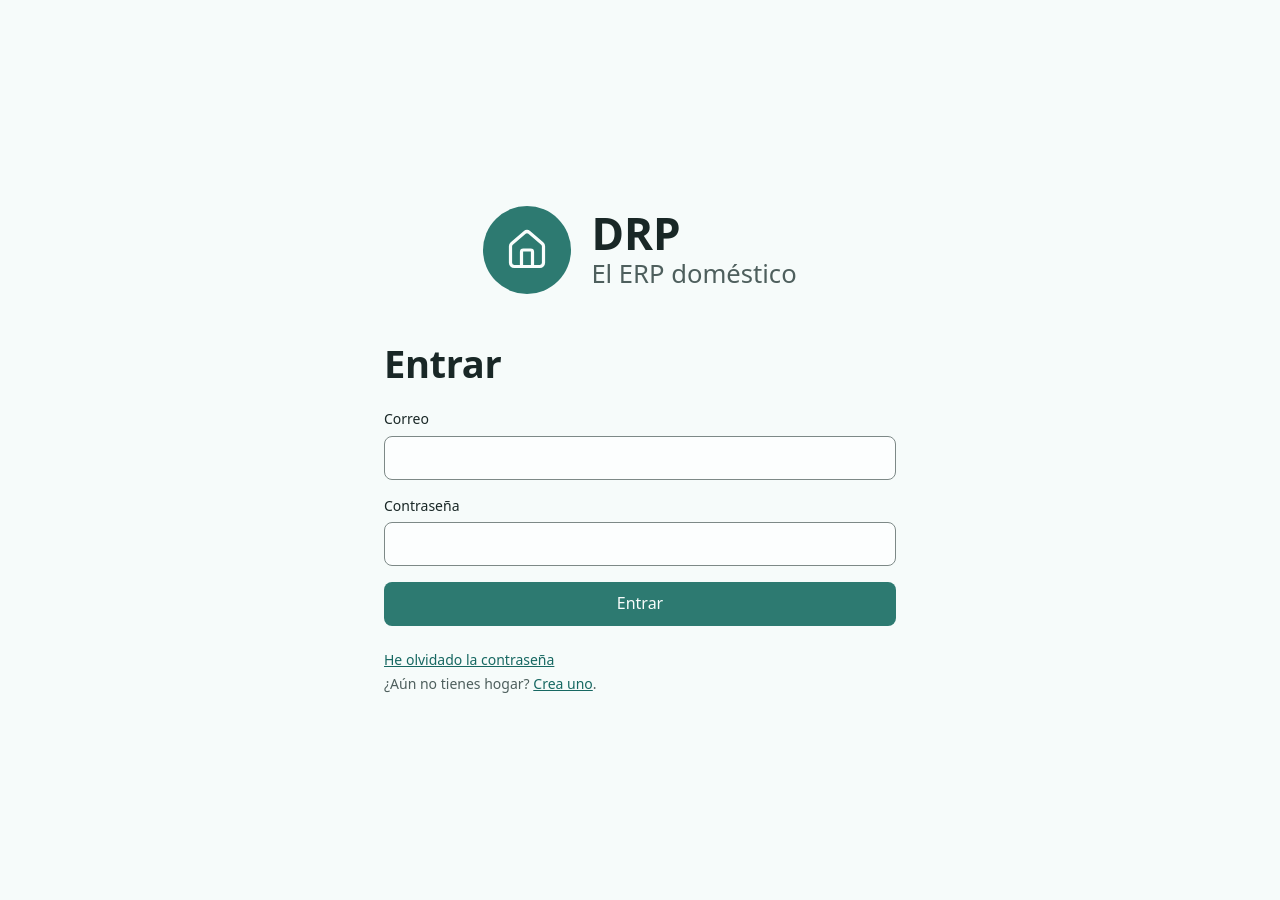
Test: renovación ante un 401 › si la renovación tampoco vale, acaba en la pantalla de entrar y dice por qué
The width and height of the screenshot is (1280, 900).
Type "kike@example.test" into the field labelled "Correo" at (640, 458), box [384,436,896,480]
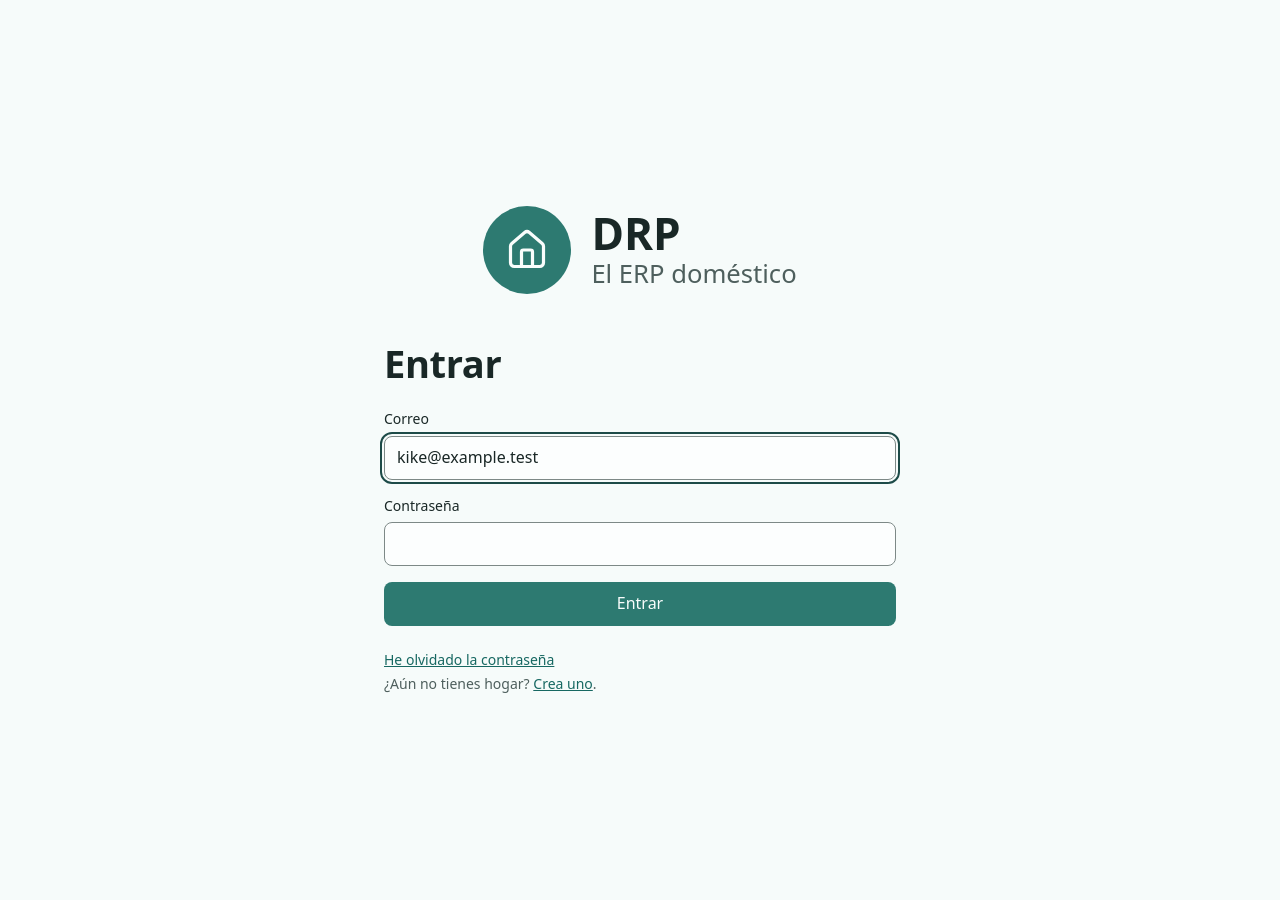
Type "el gato duerme en el sofa" into the password field labelled "Contraseña" at (640, 544), box [384,522,896,566]
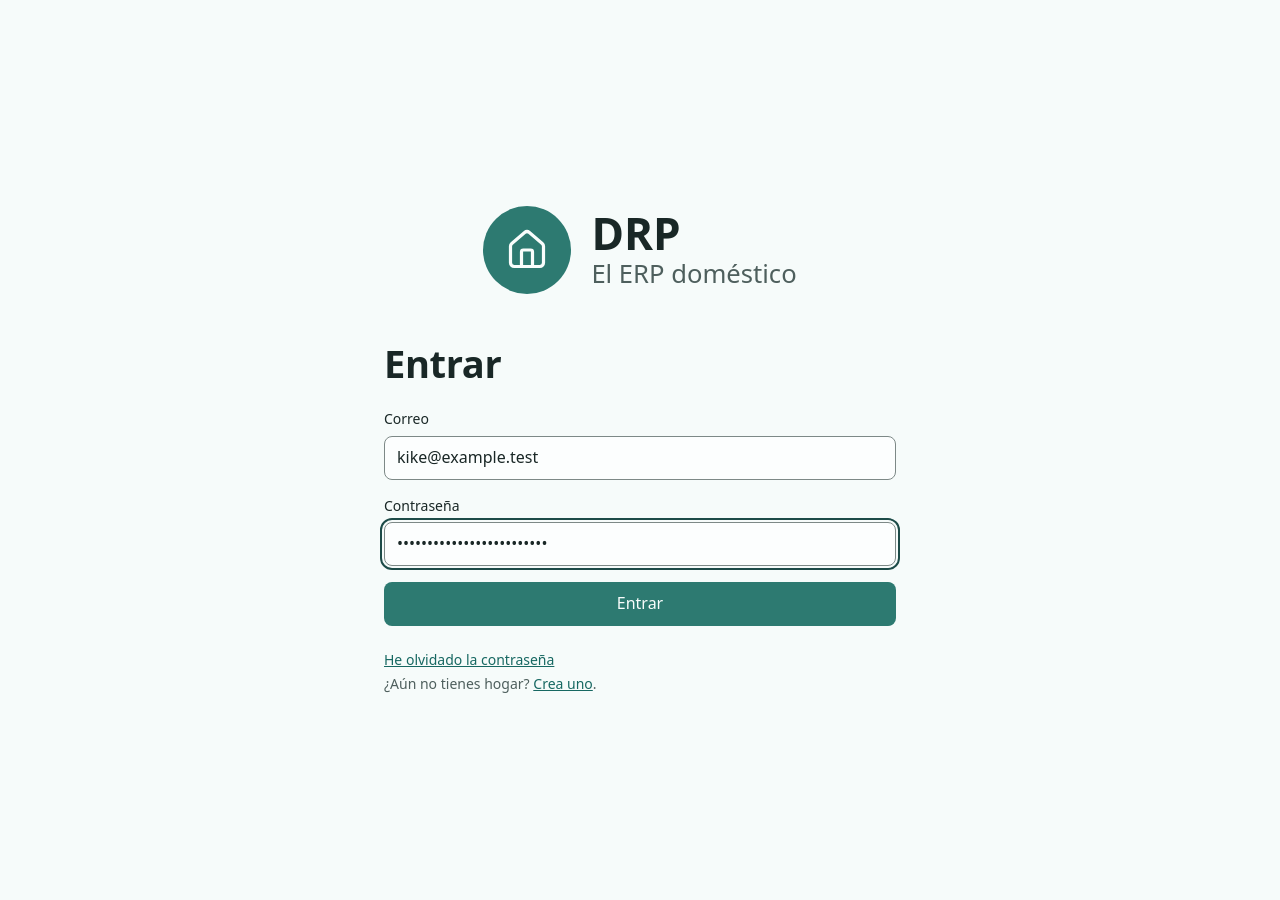
Click the button "Entrar" at (640, 604), box [384,582,896,626]
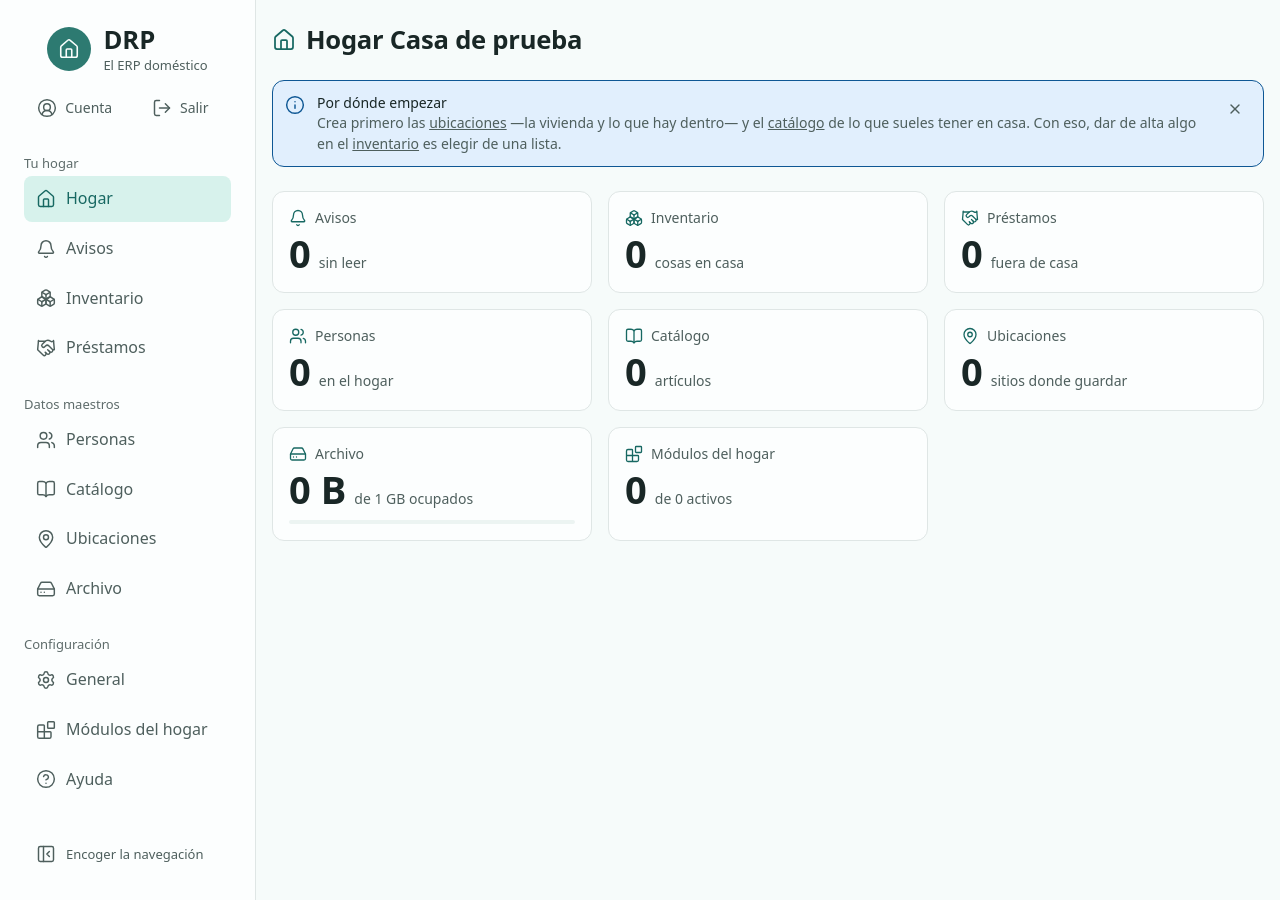
Now the heading "Hogar Casa de prueba" is shown, box [306,24,582,56]
Click the link "Ubicaciones" at (96, 538), box [36,527,156,549]
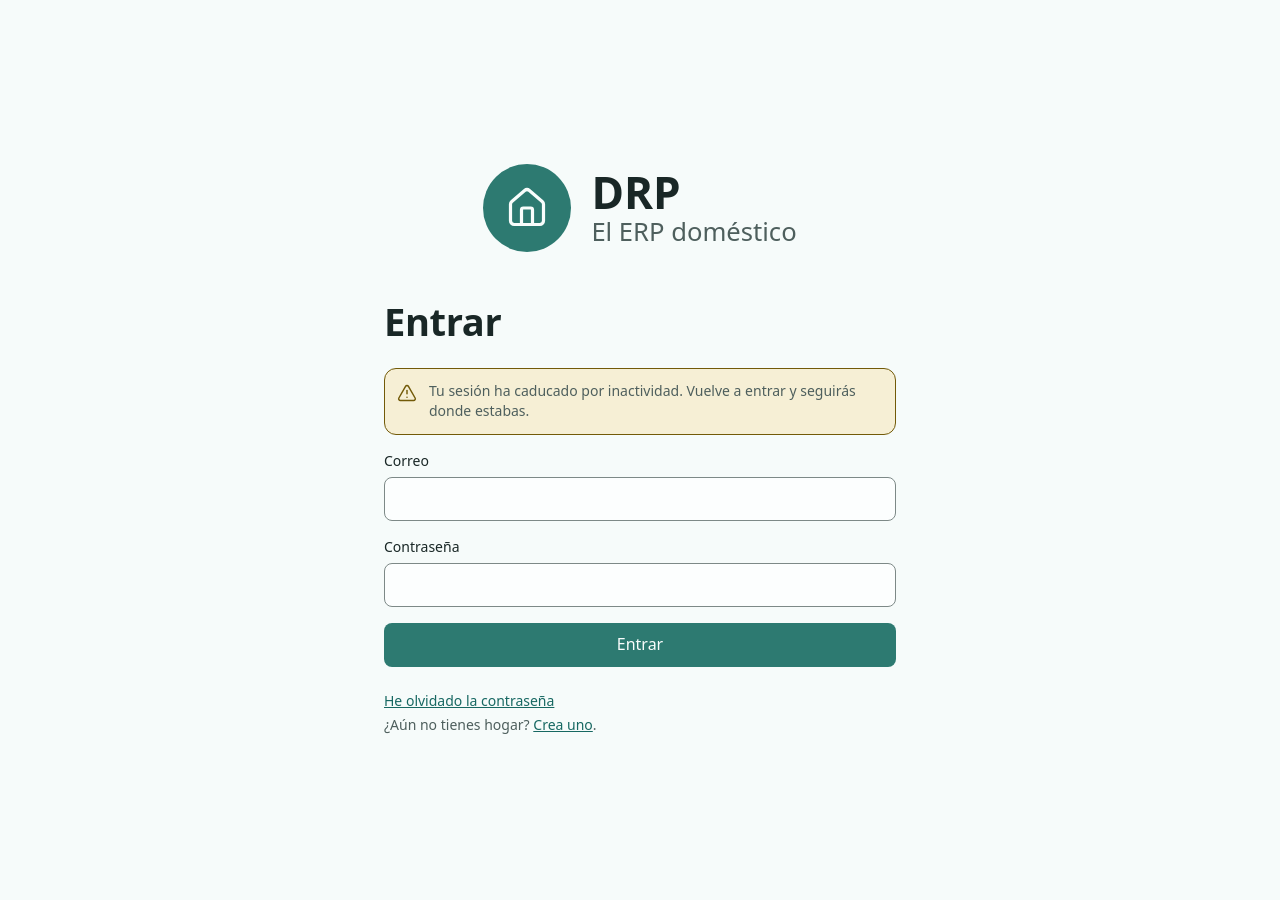
Now the heading "Entrar" is shown, box [384,295,501,347]
Now the text "Tu sesión ha caducado por inactividad" is shown, box [429,381,856,420]
